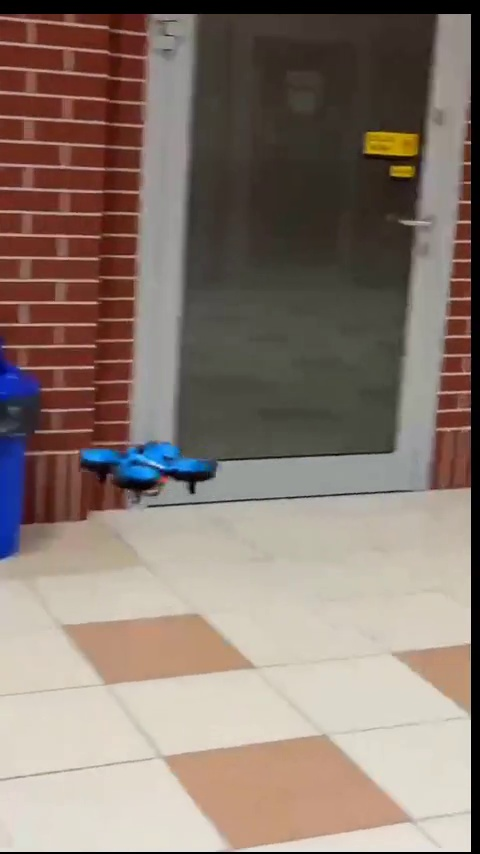drone: (80, 438, 220, 506)
